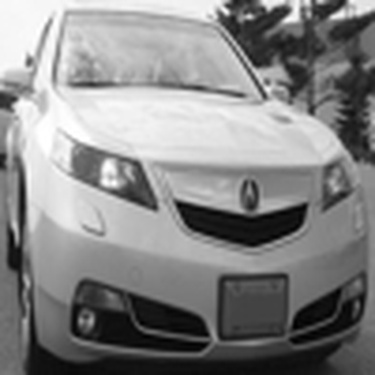car: (6, 2, 364, 370), (1, 94, 34, 172), (248, 68, 293, 103)
